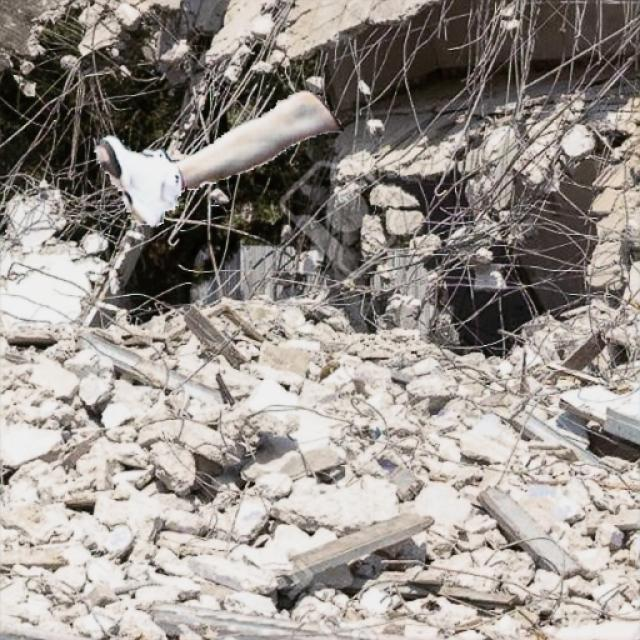Person in Rubble: (94, 90, 342, 226)
